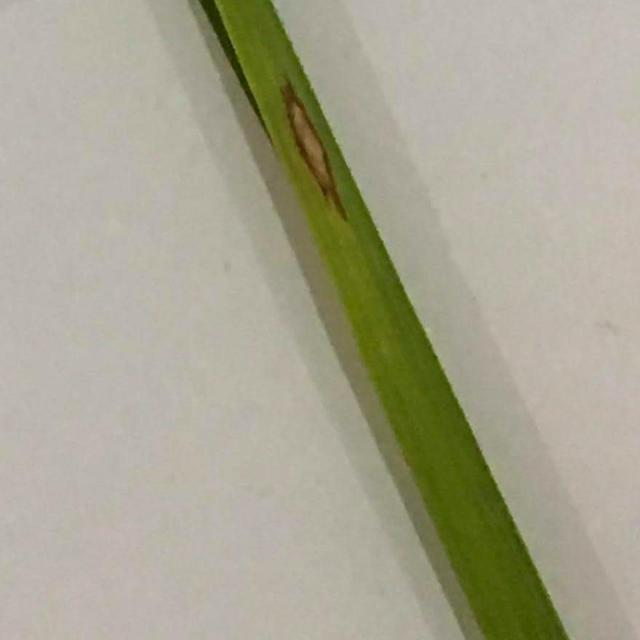Leaf blast: (160, 0, 612, 640)
